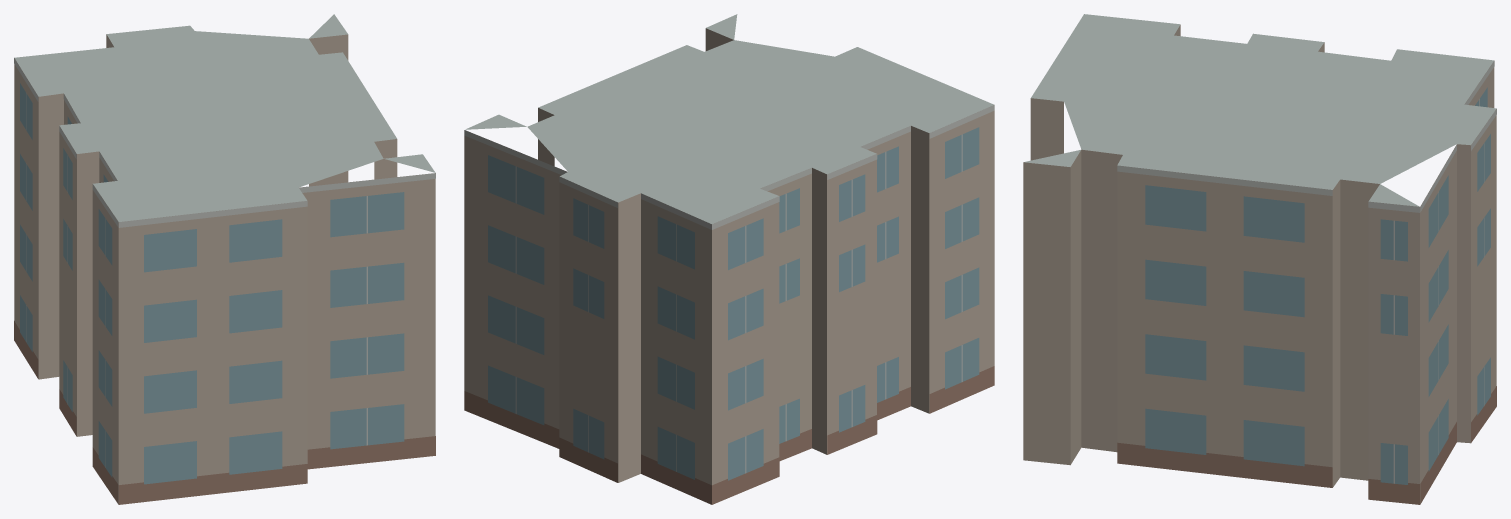
The model's file is survey-upis-32977486.glb.
The picture shows the model from 3 angles, left to right: view 1: azimuth 30°, elevation 25°; view 2: azimuth 150°, elevation 25°; view 3: azimuth 270°, elevation 25°; orthographic projection. The views are drawn at different scales.
Parts seen in each view (by area): view 1: survey-upis-32977486.tmp; view 2: survey-upis-32977486.tmp; view 3: survey-upis-32977486.tmp.
Boxes of the visible parts, bbox=[...] form: survey-upis-32977486.tmp: bbox=[14, 14, 435, 504]; survey-upis-32977486.tmp: bbox=[464, 14, 994, 504]; survey-upis-32977486.tmp: bbox=[1023, 14, 1496, 504].
Bounding box in the file's own units: 16.45 × 11.85 × 17.08.
